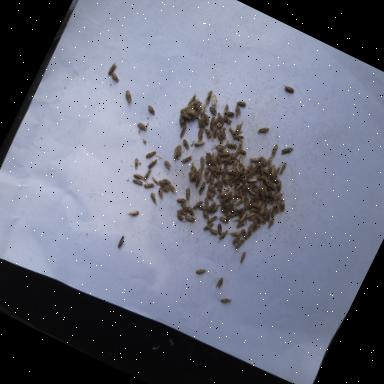pbw: (168, 146, 182, 163), (206, 126, 219, 144), (121, 90, 135, 106), (202, 189, 218, 203), (280, 142, 294, 158), (181, 186, 195, 202), (198, 113, 212, 128), (233, 216, 246, 232), (176, 124, 188, 141), (232, 119, 244, 136), (186, 89, 198, 106), (202, 89, 214, 106), (146, 192, 160, 206), (107, 70, 121, 84), (235, 187, 249, 201), (154, 187, 168, 201), (124, 206, 139, 219), (267, 204, 279, 220), (128, 176, 144, 188), (114, 234, 126, 250), (214, 275, 226, 291), (200, 127, 214, 140), (207, 94, 220, 108), (217, 188, 231, 201), (232, 236, 244, 251), (271, 201, 283, 216), (193, 128, 205, 143), (196, 181, 207, 197), (207, 116, 218, 132), (178, 200, 191, 213), (145, 157, 157, 171), (204, 184, 218, 196), (183, 212, 197, 224), (232, 104, 244, 118), (224, 140, 238, 152), (244, 224, 256, 238), (275, 198, 287, 212), (202, 220, 214, 234), (196, 154, 208, 168), (205, 212, 217, 226), (256, 200, 267, 215), (208, 202, 218, 218), (270, 164, 280, 180), (144, 104, 157, 116), (219, 294, 232, 306), (192, 117, 204, 130), (244, 208, 255, 222), (209, 154, 220, 168), (262, 208, 273, 222), (267, 164, 278, 178), (200, 166, 211, 180), (273, 179, 284, 193), (268, 143, 278, 158), (276, 161, 286, 176), (238, 228, 250, 240), (220, 209, 232, 221), (218, 148, 230, 160), (217, 128, 229, 140), (174, 210, 186, 222), (213, 132, 225, 144), (180, 153, 192, 165), (144, 148, 156, 160), (179, 138, 191, 150), (199, 210, 211, 222), (217, 205, 229, 217), (213, 142, 226, 153), (196, 116, 207, 129), (192, 198, 203, 211), (264, 188, 275, 201), (272, 192, 282, 206), (230, 132, 244, 142), (230, 148, 240, 162), (268, 191, 278, 205), (234, 196, 244, 210), (106, 62, 116, 76), (280, 84, 294, 94), (206, 173, 216, 187), (264, 156, 274, 170), (198, 103, 208, 117), (142, 168, 152, 182), (231, 232, 241, 246), (202, 150, 212, 164), (214, 222, 224, 236), (238, 210, 248, 224), (238, 170, 249, 182), (260, 184, 271, 196), (207, 152, 218, 164), (248, 201, 260, 212), (192, 138, 204, 149), (210, 170, 222, 181), (214, 112, 225, 124), (222, 156, 233, 168), (232, 182, 243, 194), (201, 198, 212, 210), (214, 181, 225, 193), (206, 106, 218, 117), (254, 179, 264, 192), (135, 122, 148, 132), (213, 121, 223, 134), (131, 172, 144, 182), (192, 106, 202, 119), (231, 191, 244, 201), (224, 151, 234, 164), (239, 178, 248, 192), (184, 205, 195, 216), (256, 191, 267, 202), (194, 266, 205, 277), (246, 174, 257, 185), (142, 180, 154, 190), (228, 205, 240, 215), (260, 176, 272, 186), (210, 116, 220, 128), (130, 157, 140, 169), (234, 98, 246, 108), (256, 164, 266, 176), (256, 156, 268, 166), (220, 116, 232, 126), (217, 216, 229, 226), (228, 228, 240, 238), (156, 178, 168, 188), (265, 218, 274, 231), (218, 228, 227, 241), (248, 166, 257, 179), (246, 196, 254, 210), (213, 154, 223, 165), (236, 155, 246, 166), (162, 159, 172, 170), (175, 196, 186, 206), (158, 184, 170, 193), (206, 201, 214, 214), (238, 251, 246, 264), (267, 182, 277, 192), (198, 203, 208, 213), (228, 211, 238, 221), (168, 185, 178, 195), (224, 109, 234, 119), (252, 160, 262, 170), (256, 214, 266, 224), (249, 154, 260, 163), (248, 220, 257, 231), (252, 222, 260, 234), (228, 182, 236, 194), (204, 172, 212, 184), (262, 198, 270, 210), (220, 103, 228, 115), (150, 176, 160, 185), (270, 175, 280, 184), (224, 167, 234, 176), (250, 212, 259, 222), (224, 173, 234, 182), (226, 127, 236, 136), (207, 228, 218, 236), (245, 188, 256, 196), (251, 192, 259, 203), (160, 178, 171, 186), (210, 180, 218, 190), (237, 149, 246, 157), (236, 140, 243, 150), (254, 167, 261, 175), (197, 104, 203, 112), (234, 166, 240, 172)
